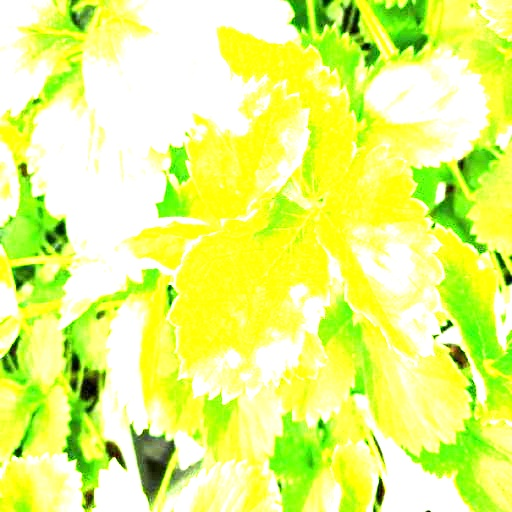Powdery Mildew Leaf: (168, 189, 333, 404), (315, 144, 446, 365), (209, 23, 357, 207), (185, 72, 311, 220), (102, 216, 220, 277)
